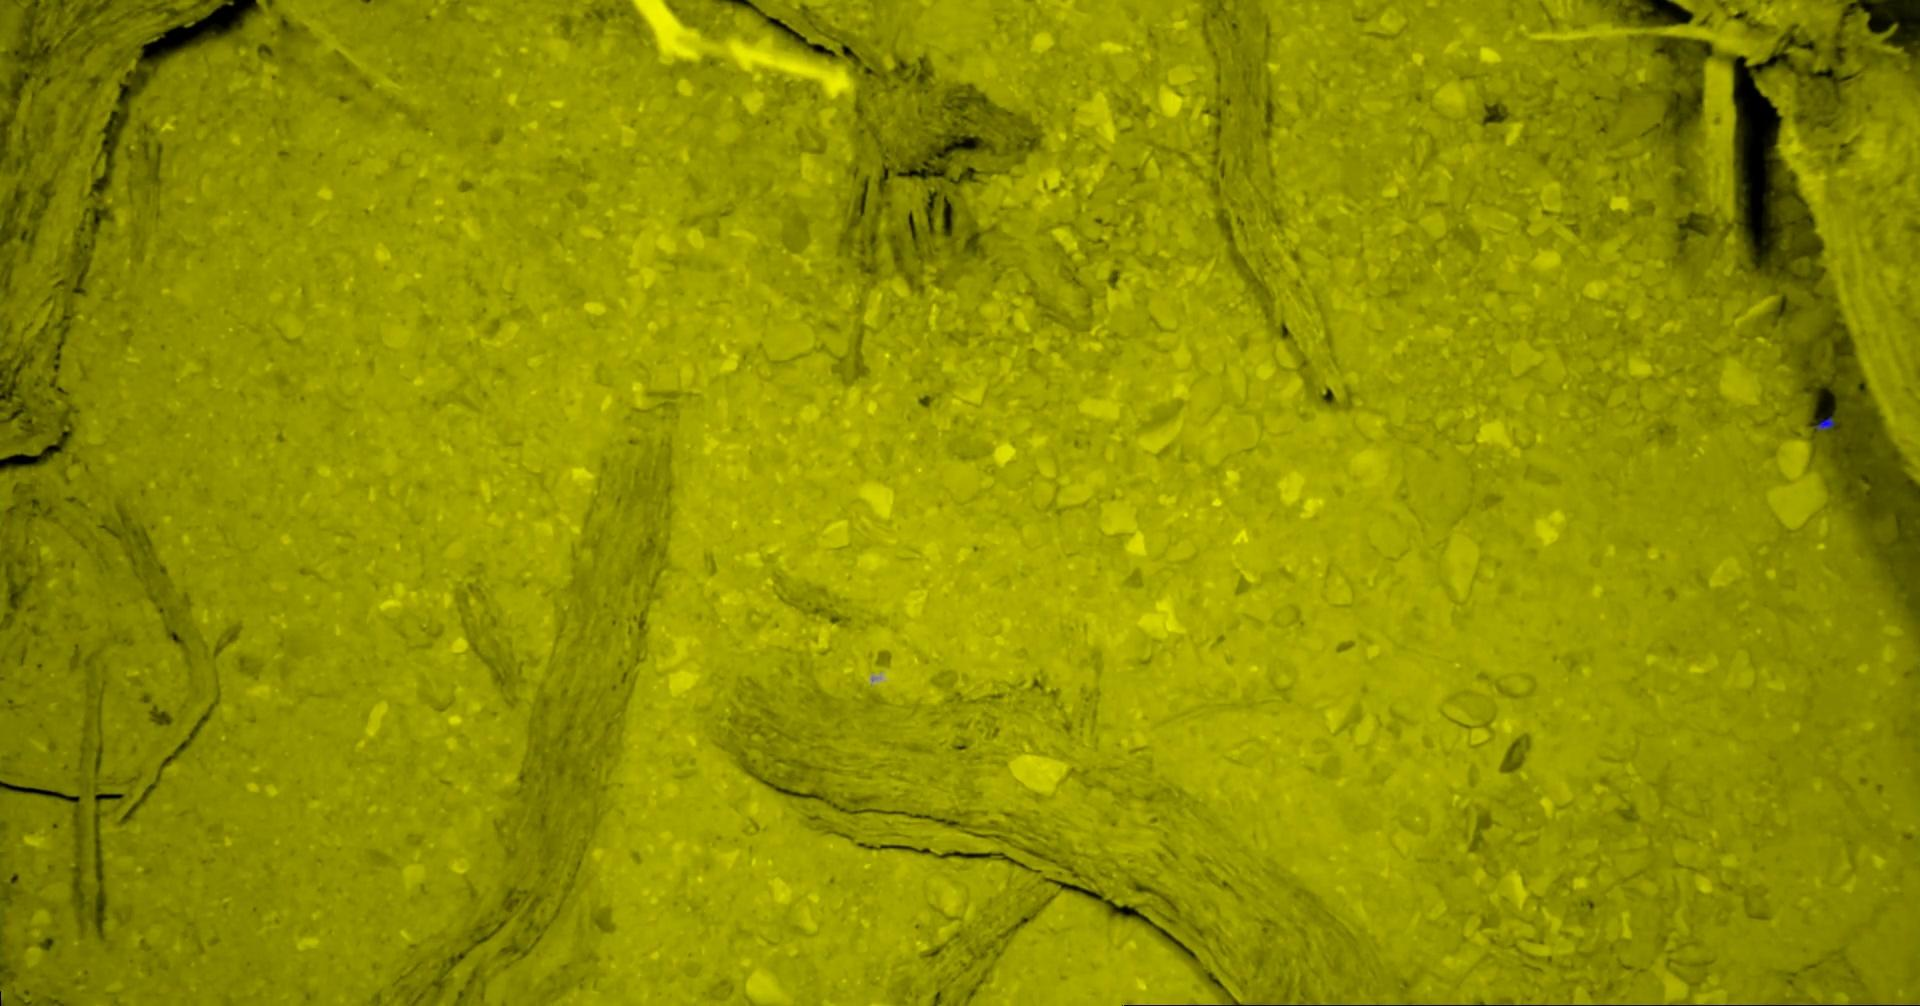ant: (1815, 415, 1834, 431)
